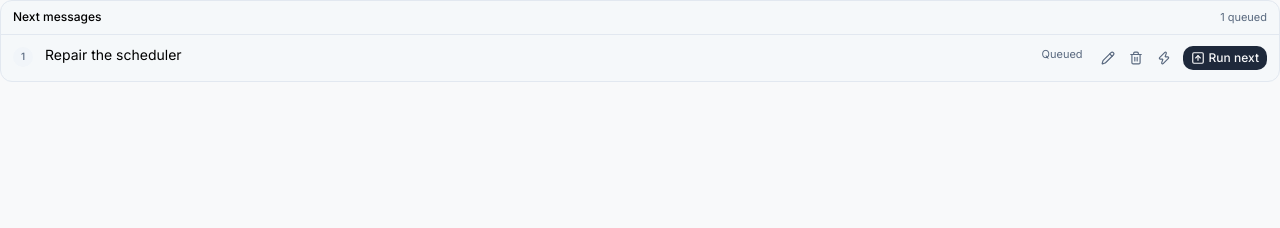
it: QueuedMessages › closes an open inline editor when the item starts promoting
Click the button named "Edit queued message 1" at coordinates (1108, 58), box [1095,44,1121,70]
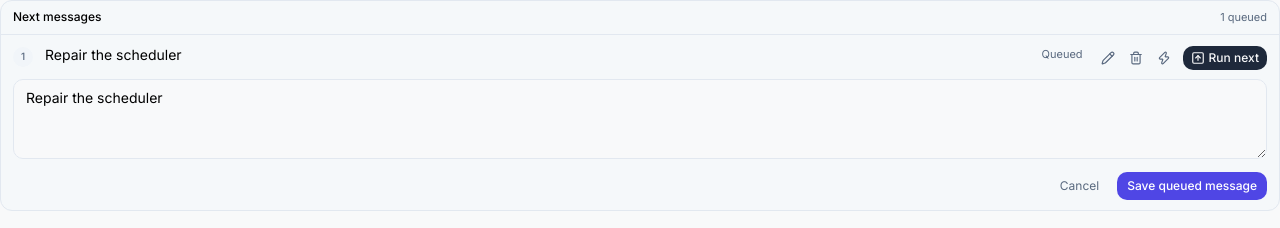
Expected: the text box named "Edit queued message 1" is shown, [13,78,1267,158]
